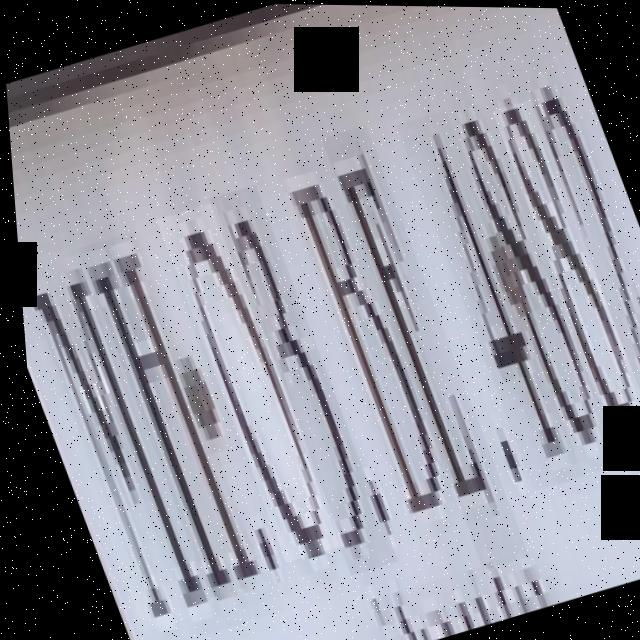0: (152, 201, 337, 563)
3: (205, 183, 390, 574)
4: (393, 108, 577, 489)
8: (446, 99, 619, 482), (489, 98, 640, 465)
B: (270, 134, 464, 544)
E: (318, 123, 523, 570)
H: (72, 230, 259, 598)
M: (14, 245, 206, 632)
